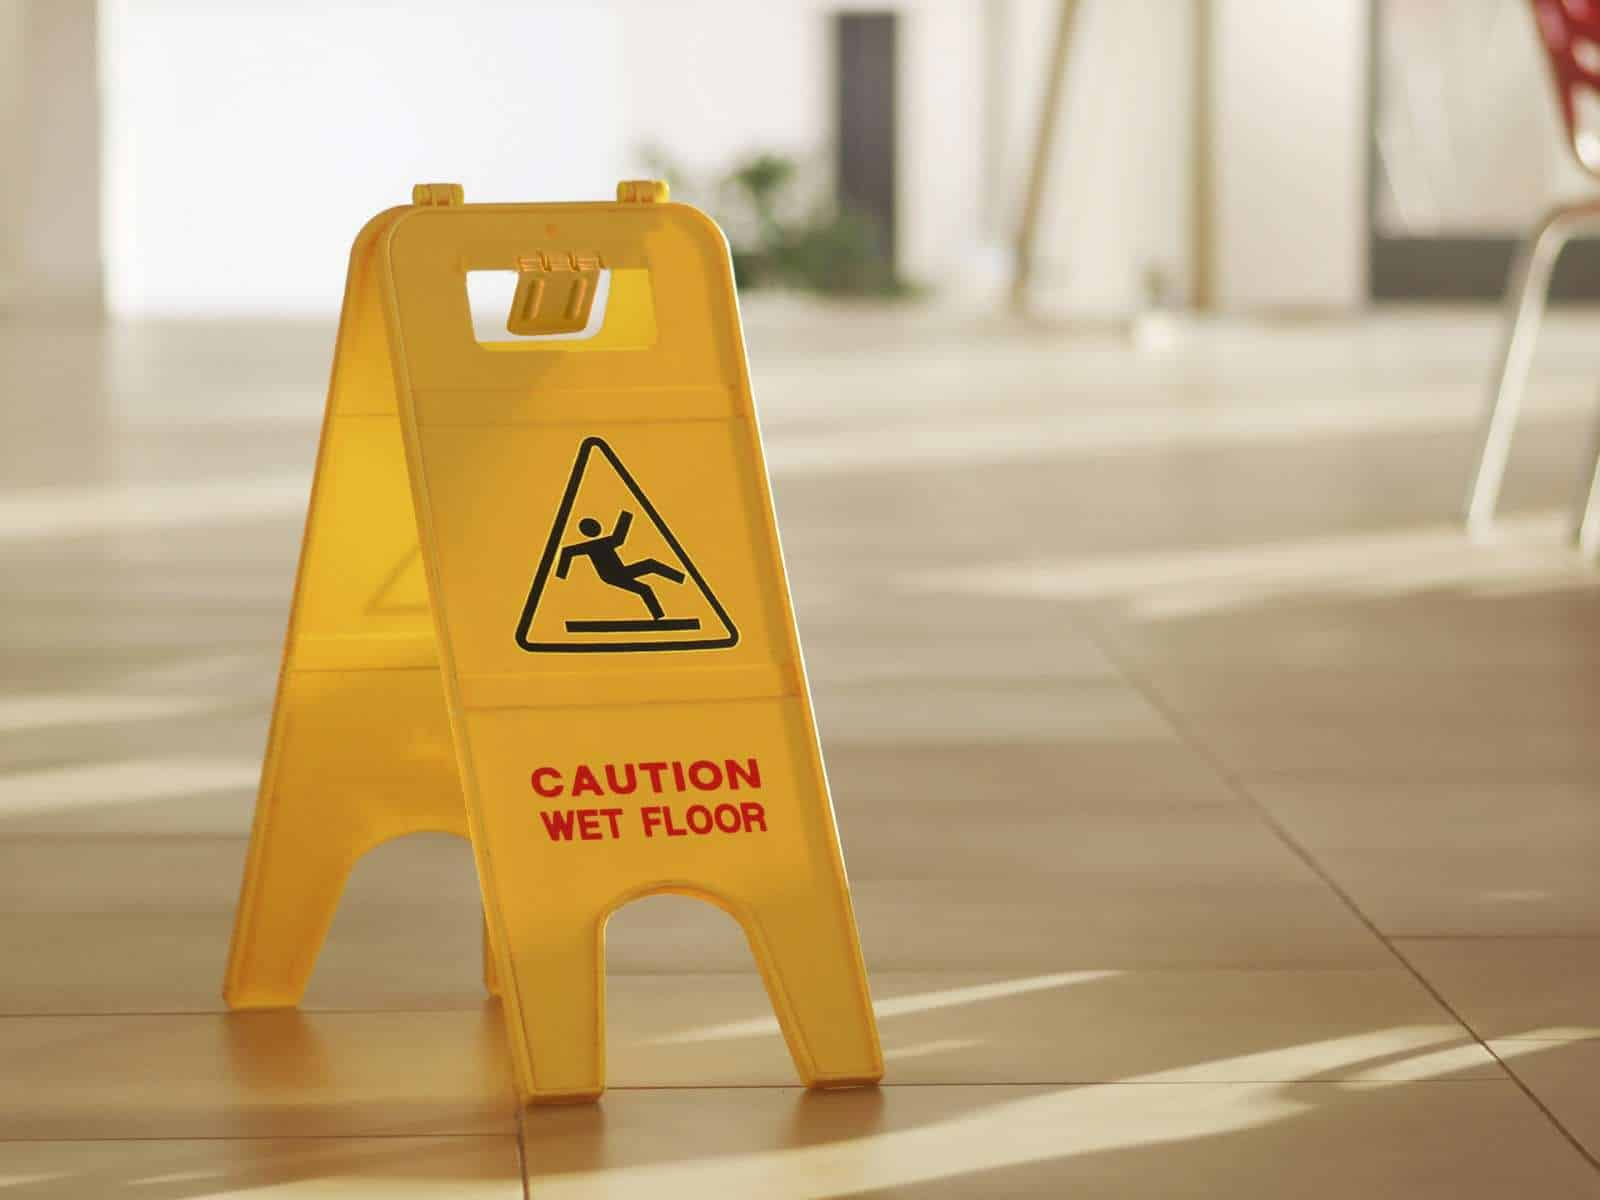wet caution sign: (163, 149, 918, 1116)
